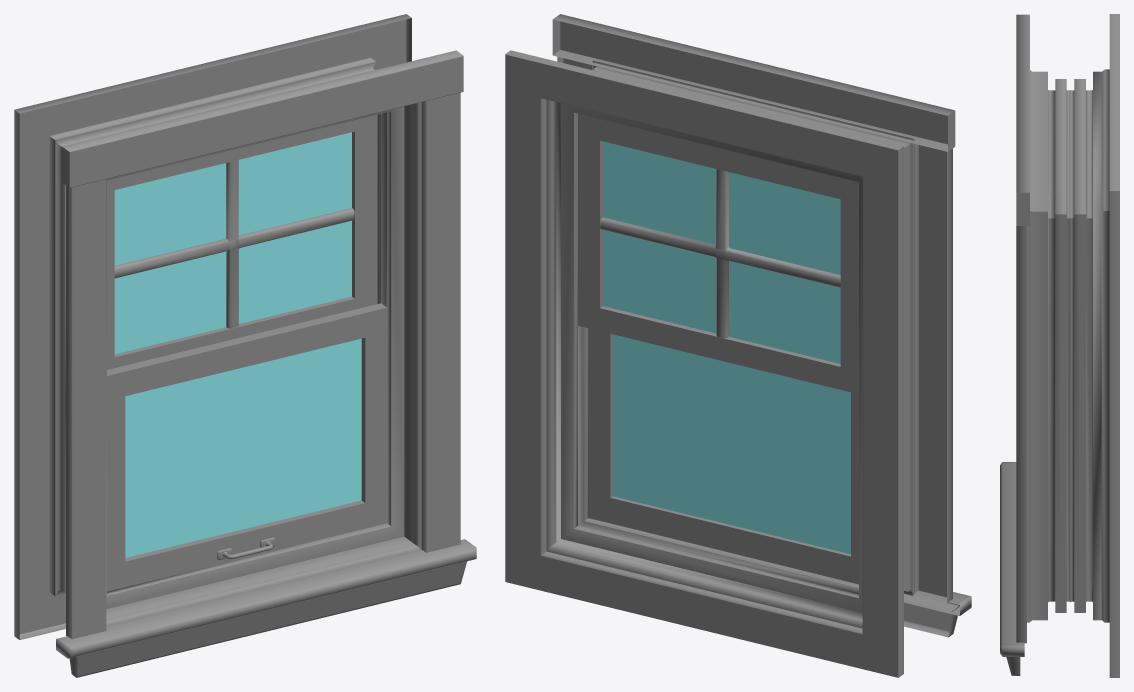
The model's file is Window_singlesmall_vinyl.FBX.
The picture shows the model from 3 angles, left to right: view 1: azimuth 30°, elevation 25°; view 2: azimuth 150°, elevation 25°; view 3: azimuth 270°, elevation 25°; orthographic projection. The views are drawn at different scales.
Parts seen in each view (by area): view 1: Window_singlesmall_vinyl, Windowglass_A, Windowglass_B, Window_singlesmall_vinyl_openable; view 2: Window_singlesmall_vinyl, Windowglass_A, Windowglass_B, Window_singlesmall_vinyl_openable; view 3: Window_singlesmall_vinyl.
Boxes of the visible parts, <box> form: Window_singlesmall_vinyl: <box>14,14,476,677</box>; Windowglass_A: <box>125,338,361,557</box>; Windowglass_B: <box>114,132,351,354</box>; Window_singlesmall_vinyl_openable: <box>107,303,387,591</box>; Window_singlesmall_vinyl: <box>505,14,971,677</box>; Windowglass_A: <box>612,334,850,554</box>; Windowglass_B: <box>603,141,840,363</box>; Window_singlesmall_vinyl_openable: <box>588,328,858,583</box>; Window_singlesmall_vinyl: <box>1000,14,1119,677</box>.
Size of the model in its own units: 100 by 123 by 27.46.
